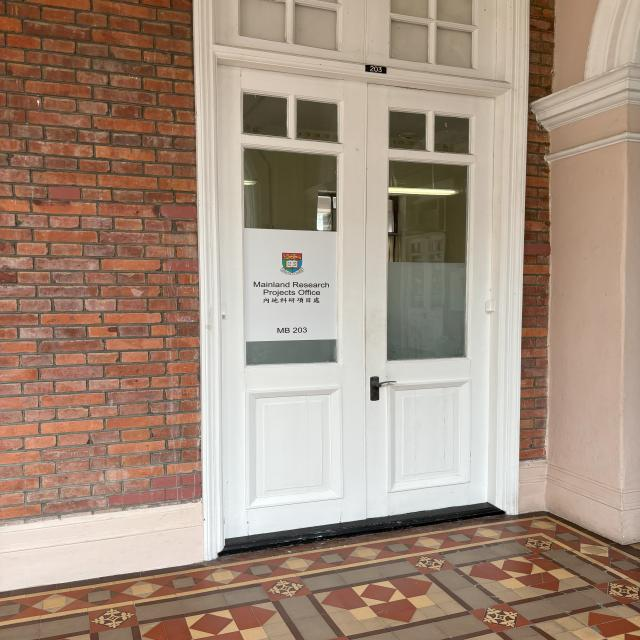MB203_bannerNumber: (273, 323, 309, 336)
MB203_roomNum: (363, 62, 389, 77)
